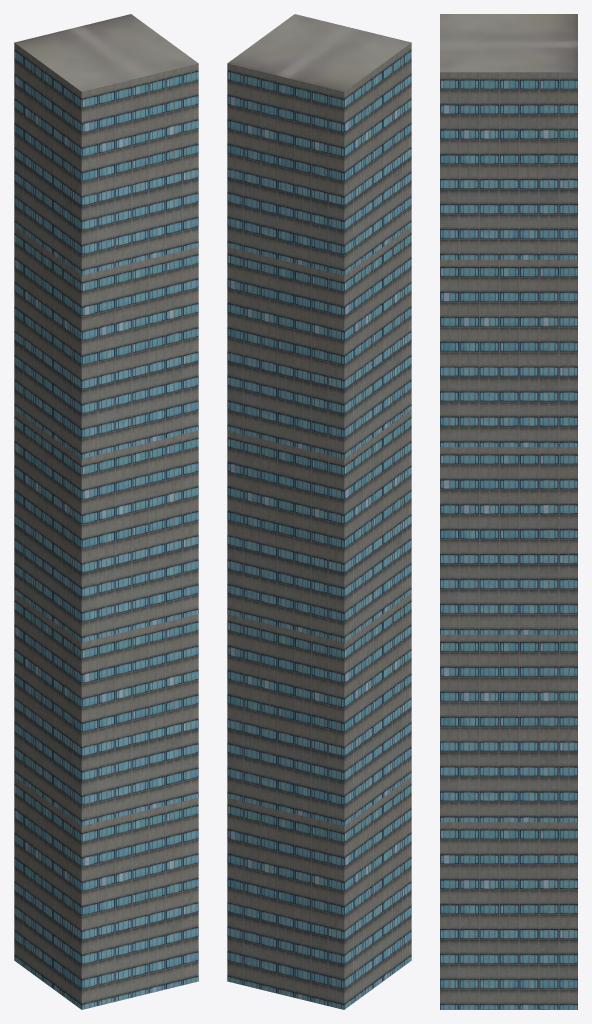
File: 2x2_xLbuilding.dae
3 views of the same model, side by side, from view 1: azimuth 30°, elevation 25°; view 2: azimuth 150°, elevation 25°; view 3: azimuth 270°, elevation 25° (orthographic). The views are drawn at different scales.
Parts seen in each view (by area): view 1: pCube1; view 2: pCube1; view 3: pCube1.
Part boxes in pixels (x1,y1,x2,y2): pCube1: [14, 14, 198, 1009]; pCube1: [227, 14, 411, 1009]; pCube1: [440, 14, 577, 1009].
Bounding box in the file's own units: 200 × 1500 × 200.
